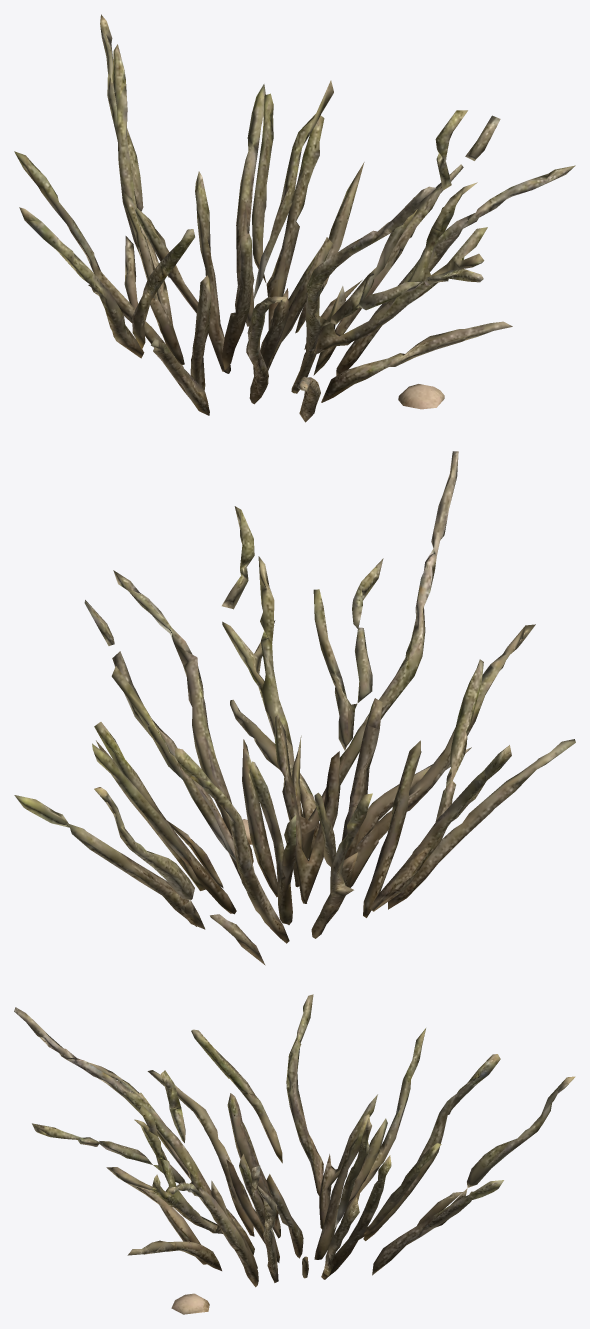
File: plant_shrub.glb
3 renders of one model, top to bottom at view 1: azimuth 30°, elevation 25°; view 2: azimuth 150°, elevation 25°; view 3: azimuth 270°, elevation 25°, orthographic. The views are drawn at different scales.
Visible parts, largest first — view 1: geometry_0; view 2: geometry_0; view 3: geometry_0.
Part boxes in pixels (box(x1,y1,x2,y2)): geometry_0: box(14, 14, 575, 422); geometry_0: box(14, 451, 575, 965); geometry_0: box(14, 994, 575, 1314).
Size of the model in its own units: 0.7701 by 0.4975 by 0.9679.
1 material, 1 textured.
